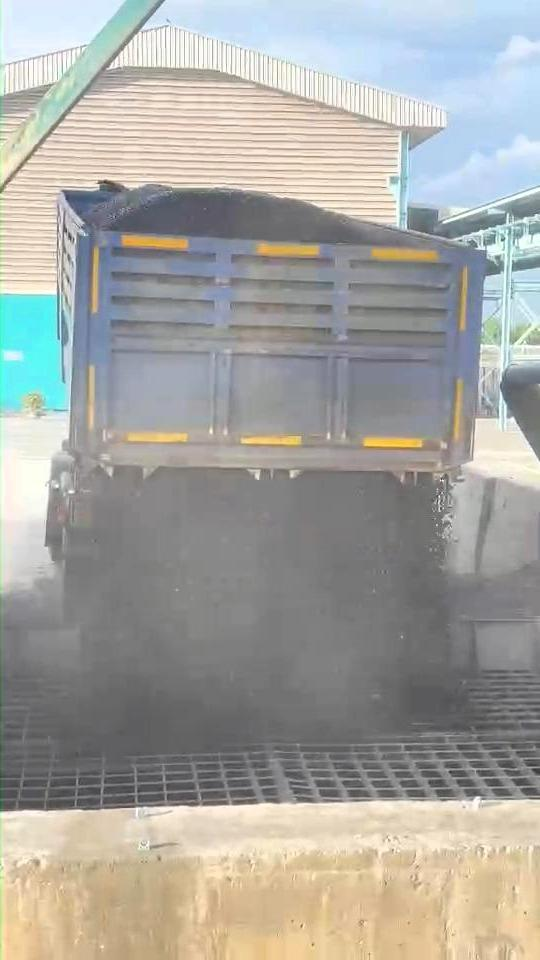gravel: (65, 469, 446, 744), (79, 181, 395, 246)
